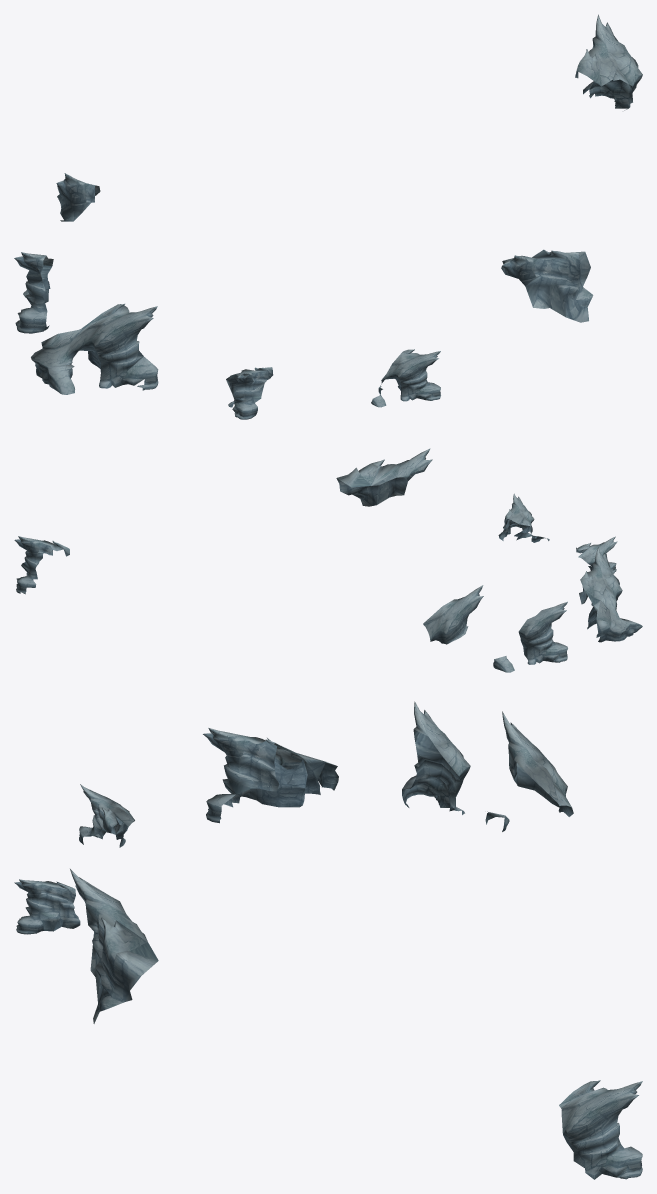
The model's file is yanshi13_1.fbx.
3 views of the same model, one above another, from view 1: azimuth 30°, elevation 25°; view 2: azimuth 150°, elevation 25°; view 3: azimuth 270°, elevation 25° (orthographic). The views are drawn at different scales.
Visible parts, largest first — view 1: yanshi13_1; view 2: yanshi13_1; view 3: yanshi13_1.
Part boxes in pixels (<box>): yanshi13_1: <box>14,14,642,419</box>; yanshi13_1: <box>14,448,642,672</box>; yanshi13_1: <box>14,701,642,1179</box>.
Size of the model in its own units: 9543 by 1418 by 6219.
